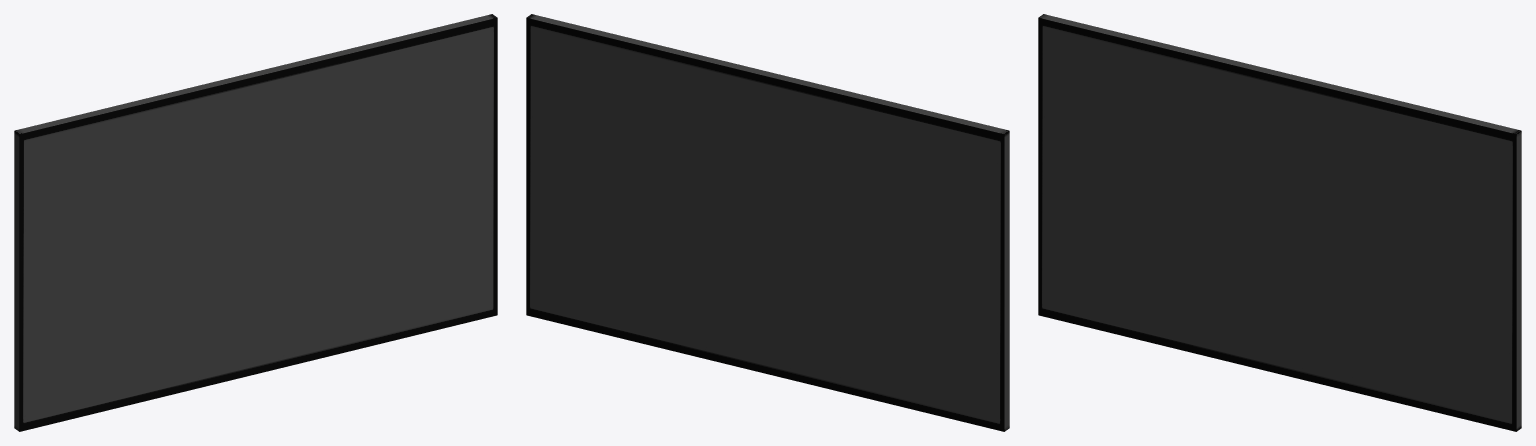
The model's file is Surp.FBX.
3 views of the same model, side by side, from view 1: azimuth 30°, elevation 25°; view 2: azimuth 150°, elevation 25°; view 3: azimuth 330°, elevation 25° (orthographic).
Parts seen in each view (by area): view 1: Box001; view 2: Box001; view 3: Box001.
Boxes of the visible parts, bbox=[...] form: Box001: bbox=[14, 14, 497, 431]; Box001: bbox=[526, 14, 1009, 431]; Box001: bbox=[1038, 14, 1521, 431].
Bounding box in the file's own units: 69.49 × 41.33 × 1.3.
1 material, 1 textured.
